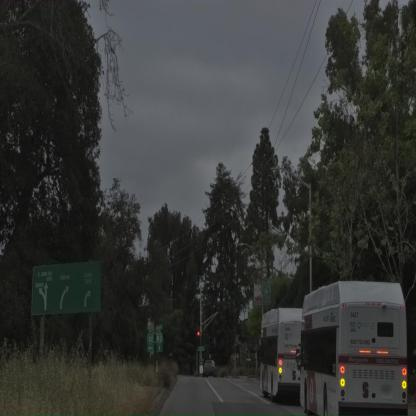bus: (296, 279, 414, 416), (258, 307, 304, 403)
car: (203, 361, 217, 378)
sign: (31, 263, 102, 314)
